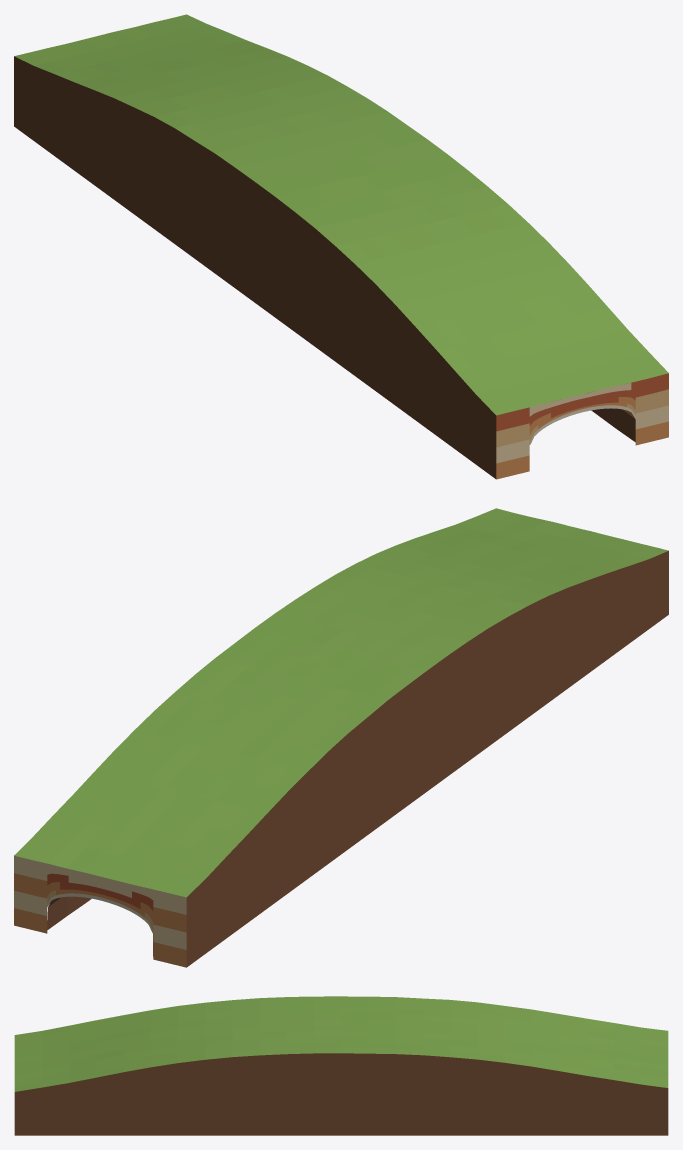
Rendered from tunel_cf.glb.
3 views of the same model, one above another, from view 1: azimuth 30°, elevation 25°; view 2: azimuth 150°, elevation 25°; view 3: azimuth 270°, elevation 25° (orthographic). The views are drawn at different scales.
Visible parts, largest first — view 1: tunel_cf; view 2: tunel_cf; view 3: tunel_cf.
Boxes of the visible parts, <box> form: tunel_cf: <box>14,14,668,479</box>; tunel_cf: <box>14,508,668,967</box>; tunel_cf: <box>14,996,668,1135</box>.
Size of the model in its own units: 124 by 83.4 by 601.
